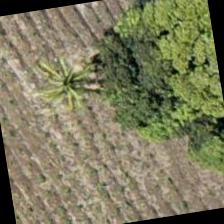Kelapa_Sawit: (19, 26, 122, 130)
